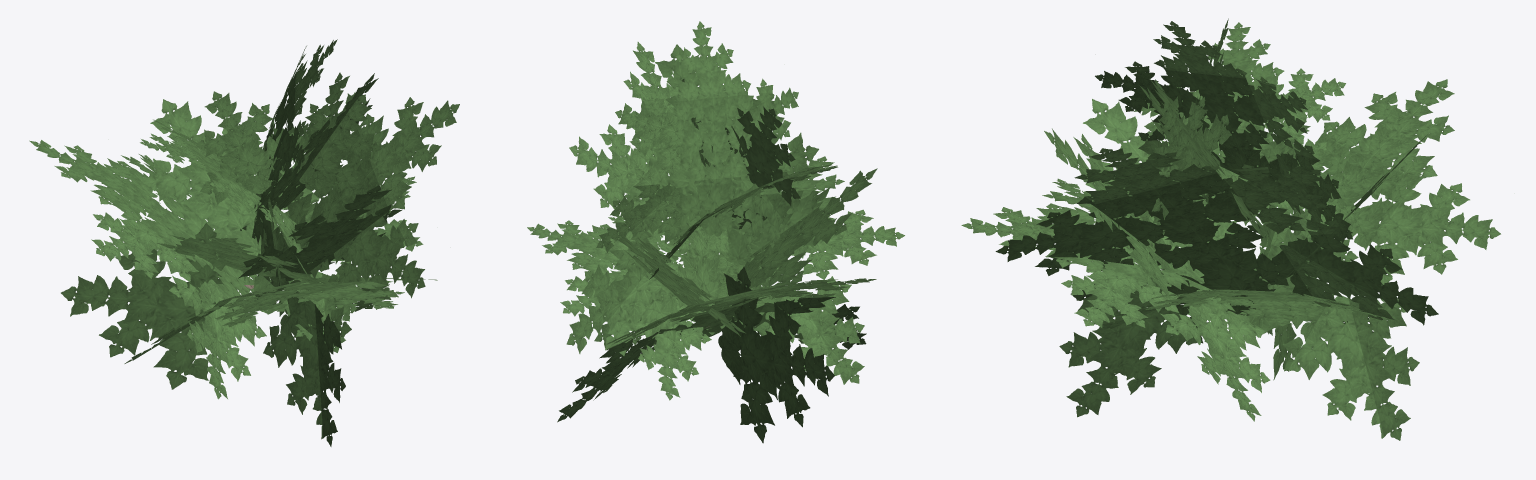
Rendered from TreeHOJAS.obj.
The picture shows the model from 3 angles, left to right: view 1: azimuth 30°, elevation 25°; view 2: azimuth 150°, elevation 25°; view 3: azimuth 270°, elevation 25°; orthographic projection. The views are drawn at different scales.
Visible parts, largest first — view 1: Tree; view 2: Tree; view 3: Tree.
Boxes of the visible parts, x1,y1,x2,y2 form: Tree: (29, 39, 459, 446); Tree: (527, 21, 904, 443); Tree: (961, 18, 1500, 440).
Size of the model in its own units: 4.49 by 4.67 by 5.3.
Materials: 2 (2 with a texture image).
